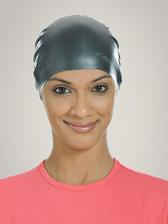other: (29, 11, 130, 92)
